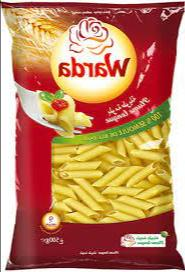plume: (1, 3, 185, 269)
